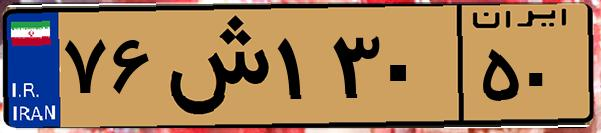0: (385, 28, 445, 110), (525, 38, 570, 115)
1: (270, 28, 330, 110)
3: (330, 28, 385, 110)
5: (475, 38, 525, 113)
6: (110, 28, 158, 98)
7: (57, 26, 110, 100)
ش: (158, 12, 270, 120)
